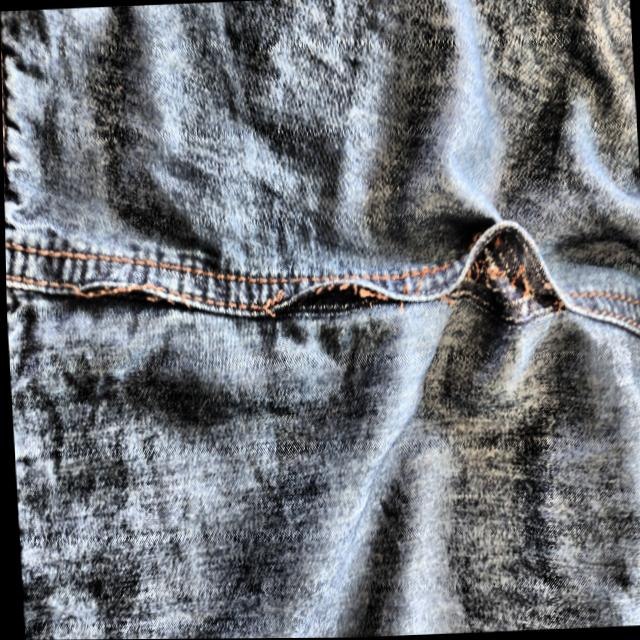seam: (439, 209, 564, 350), (268, 269, 407, 327)
